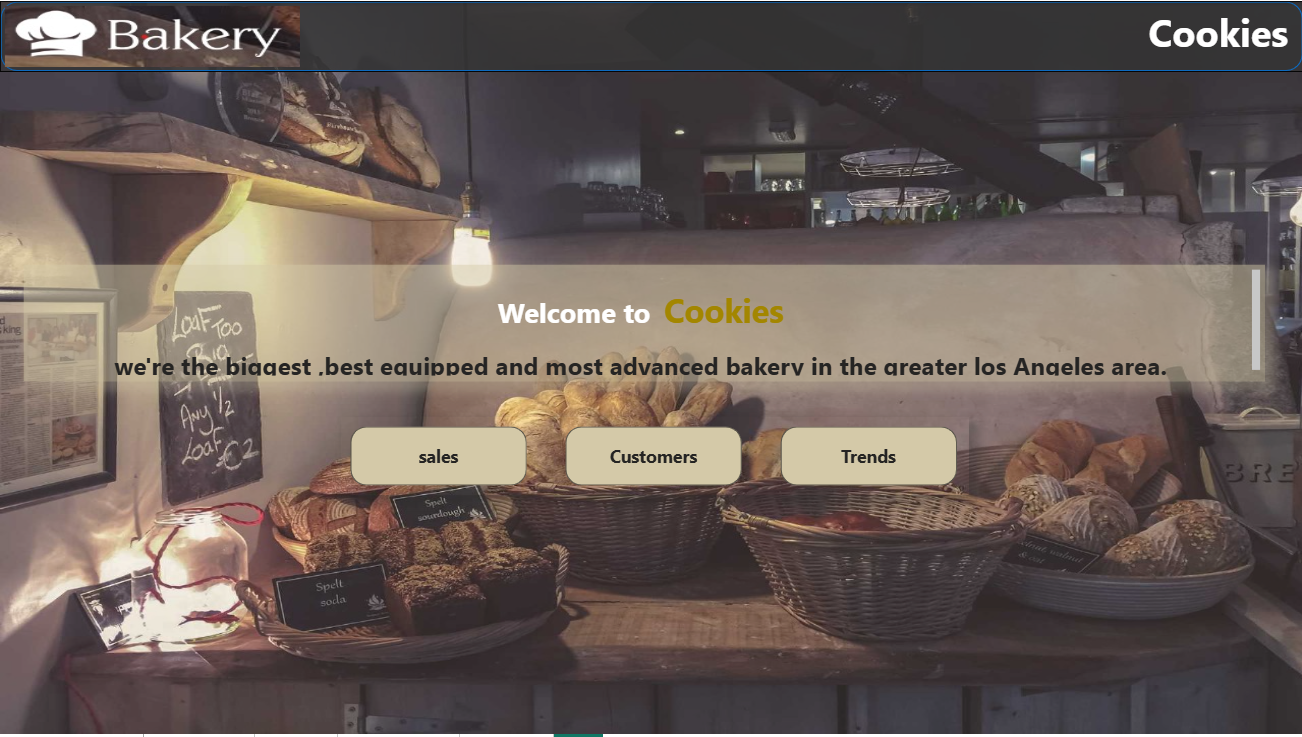

The page's visual inventory and layout, read from the dashboard file:
{"tool":"powerbi","page":{"name":"welcome","canvas":[1280,720],"ordinal":0},"visuals":[{"type":"shape","box":[0,0,1279.8,69.9],"z":0},{"type":"textbox","box":[23.3,258.9,1218.4,114.1],"z":2000},{"type":"image","box":[0,0,299.4,69.9],"z":3000},{"type":"textbox","box":[993.9,0,285.9,69.9],"z":4000},{"type":"pageNavigator","box":[335,408.6,616,76.1],"z":4500}]}

Visuals, with their boxes in screenshot pixels (x1, y1, x2, y2), scaled from the page's 1280x720 canvas onto the 1302x737 screenshot:
shape: crop(0, 0, 1301, 72)
textbox: crop(24, 265, 1263, 382)
image: crop(0, 0, 305, 72)
textbox: crop(1011, 0, 1301, 72)
pageNavigator: crop(341, 418, 967, 496)
